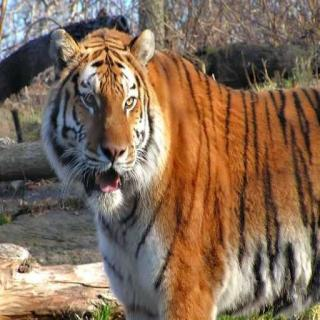Tiger: (37, 2, 320, 320)
